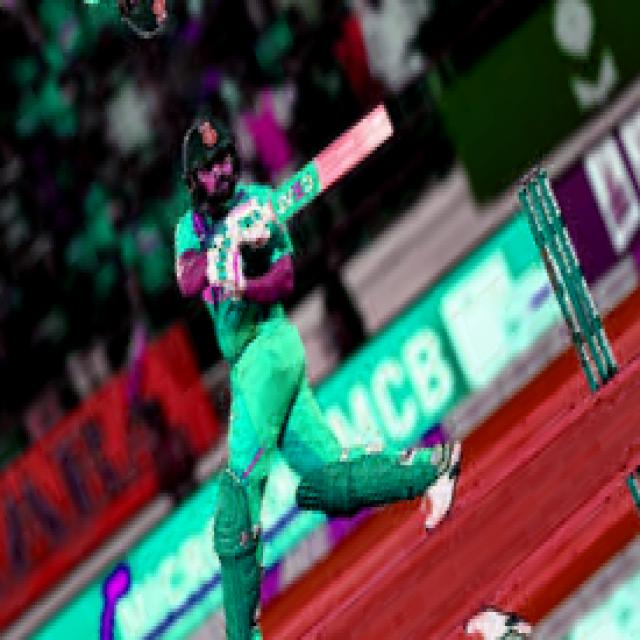toe: (368, 102, 398, 147)
